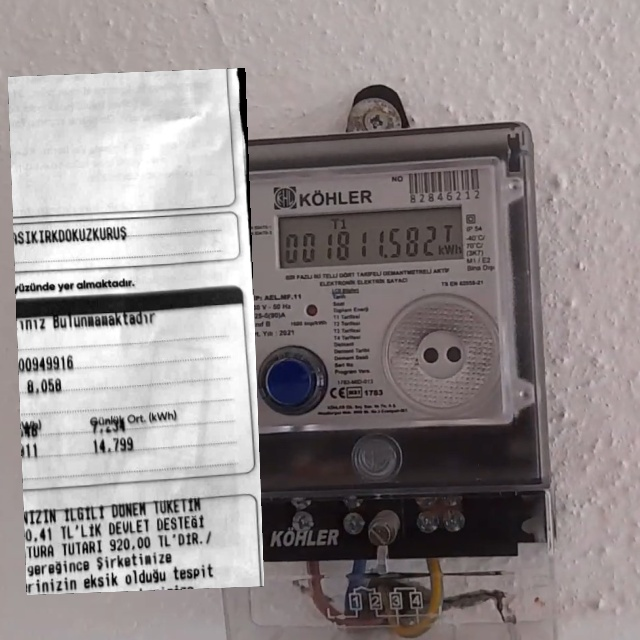electricity-bill: (8, 68, 264, 595)
